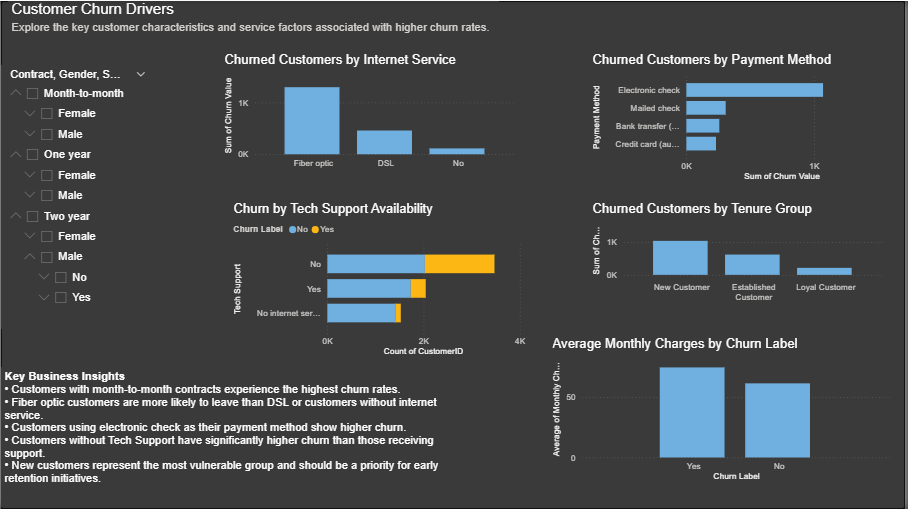

The page's visual inventory and layout, read from the dashboard file:
{"tool":"powerbi","page":{"name":"Churn Drivers Analysis","canvas":[1280,720],"ordinal":1},"visuals":[{"type":"textbox","title":"Customer Churn Drivers","box":[9.9,0,695.9,72.3],"z":0},{"type":"clusteredColumnChart","title":"Churned Customers by Internet Service","fields":{"Category":["customer_churn_powerbi.Internet Service"],"Y":["Sum(customer_churn_powerbi.Churn Value)"]},"box":[311.8,72.3,423.8,172.9],"z":1000},{"type":"clusteredBarChart","title":"Churned Customers by Payment Method","fields":{"Y":["Sum(customer_churn_powerbi.Churn Value)"],"Category":["customer_churn_powerbi.Payment Method"]},"box":[833.4,72.3,422.4,188.5],"z":2000},{"type":"barChart","title":"Churn by Tech Support Availability","fields":{"Y":["CountNonNull(customer_churn_powerbi.CustomerID)"],"Series":["customer_churn_powerbi.Churn Label"],"Category":["customer_churn_powerbi.Tech Support"]},"box":[324.6,283.5,423.8,225.4],"z":3000},{"type":"clusteredColumnChart","title":"Churned Customers by Tenure Group","fields":{"Category":["customer_churn_powerbi.Tenure Group"],"Y":["Sum(customer_churn_powerbi.Churn Value)"]},"box":[833.4,283.5,422.4,151.7],"z":4000},{"type":"clusteredColumnChart","title":"Average Monthly Charges by Churn Label","fields":{"Category":["customer_churn_powerbi.Churn Label"],"Y":["Avg(customer_churn_powerbi.Monthly Charges)"]},"box":[776.7,474.8,489,211.2],"z":5000},{"type":"slicer","fields":{"Values":["customer_churn_powerbi.Contract","customer_churn_powerbi.Gender","customer_churn_powerbi.Senior Citizen","customer_churn_powerbi.Internet Service"]},"box":[0,90.7,217.4,374.4],"z":6000},{"type":"textbox","box":[0,518.4,625,198.7],"z":7000}]}

Visuals, with their boxes in screenshot pixels (x1, y1, x2, y2), scaled from the page's 1280x720 canvas onto the 908x509 screenshot:
"Customer Churn Drivers" textbox: bbox=(7, 0, 501, 51)
"Churned Customers by Internet Service" clusteredColumnChart: bbox=(221, 51, 522, 173)
"Churned Customers by Payment Method" clusteredBarChart: bbox=(591, 51, 891, 184)
"Churn by Tech Support Availability" barChart: bbox=(230, 200, 531, 360)
"Churned Customers by Tenure Group" clusteredColumnChart: bbox=(591, 200, 891, 308)
"Average Monthly Charges by Churn Label" clusteredColumnChart: bbox=(551, 336, 898, 485)
slicer - customer_churn_powerbi.Contract x customer_churn_powerbi.Gender: bbox=(0, 64, 154, 329)
textbox: bbox=(0, 366, 443, 507)
